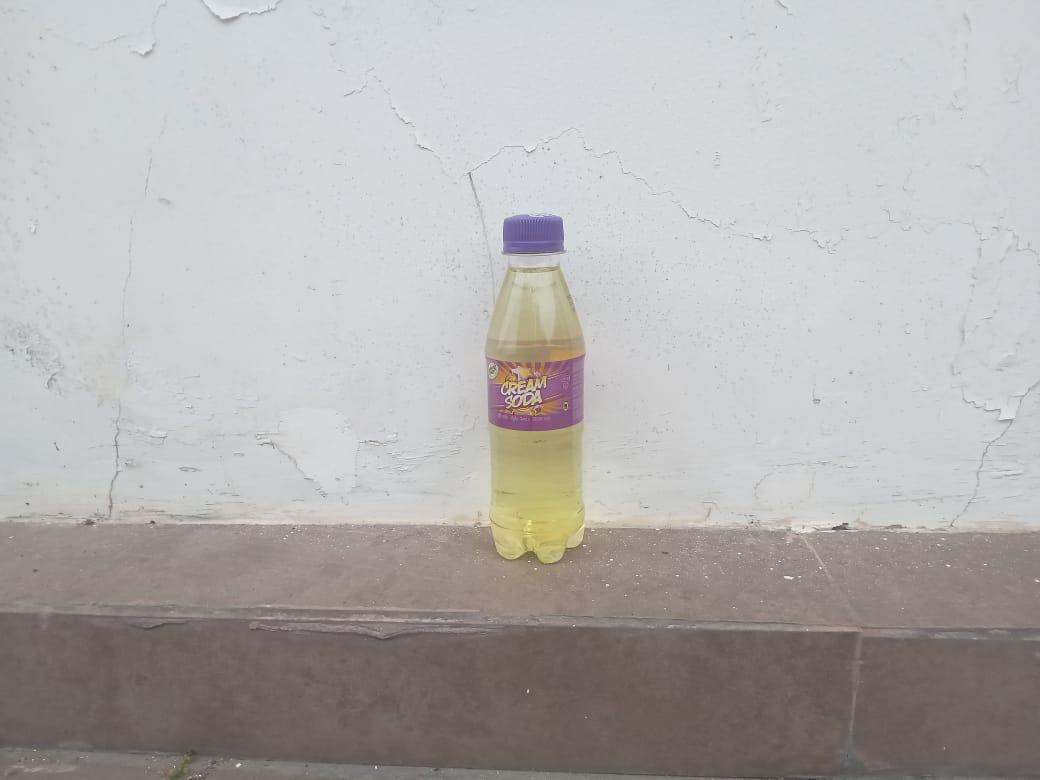Xs: (472, 206, 598, 574)
